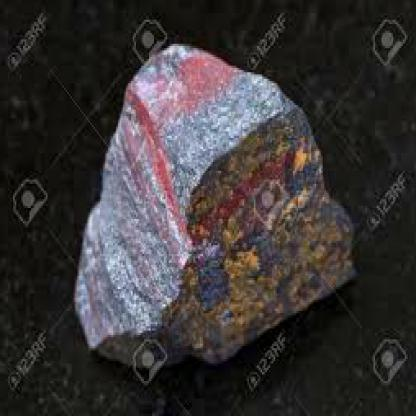Metamorphic_Quartize: (58, 33, 378, 394)
